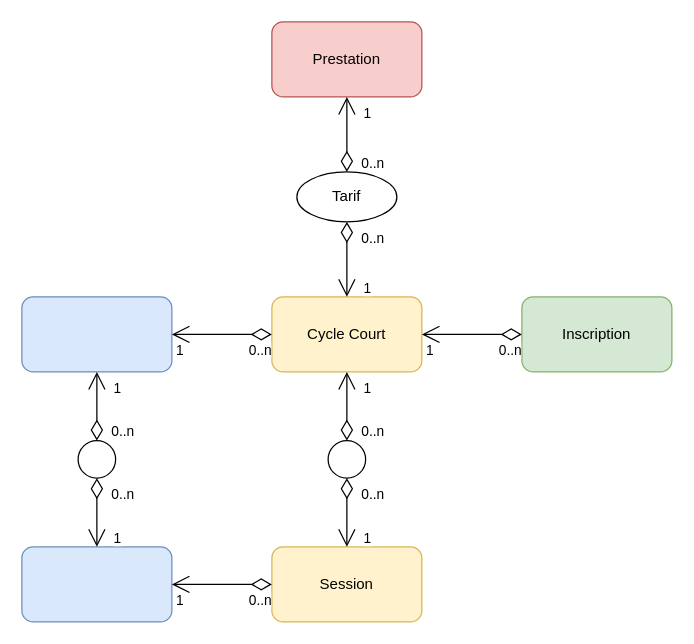
The diagram is 694 pixels wide and 644 high, and some of its shapes have lost their labels. Here are the shapes that lost their labels. From the top down, the box of each, then its label:
(21, 296, 172, 372): Cursus
(21, 546, 172, 622): Action de Formation
